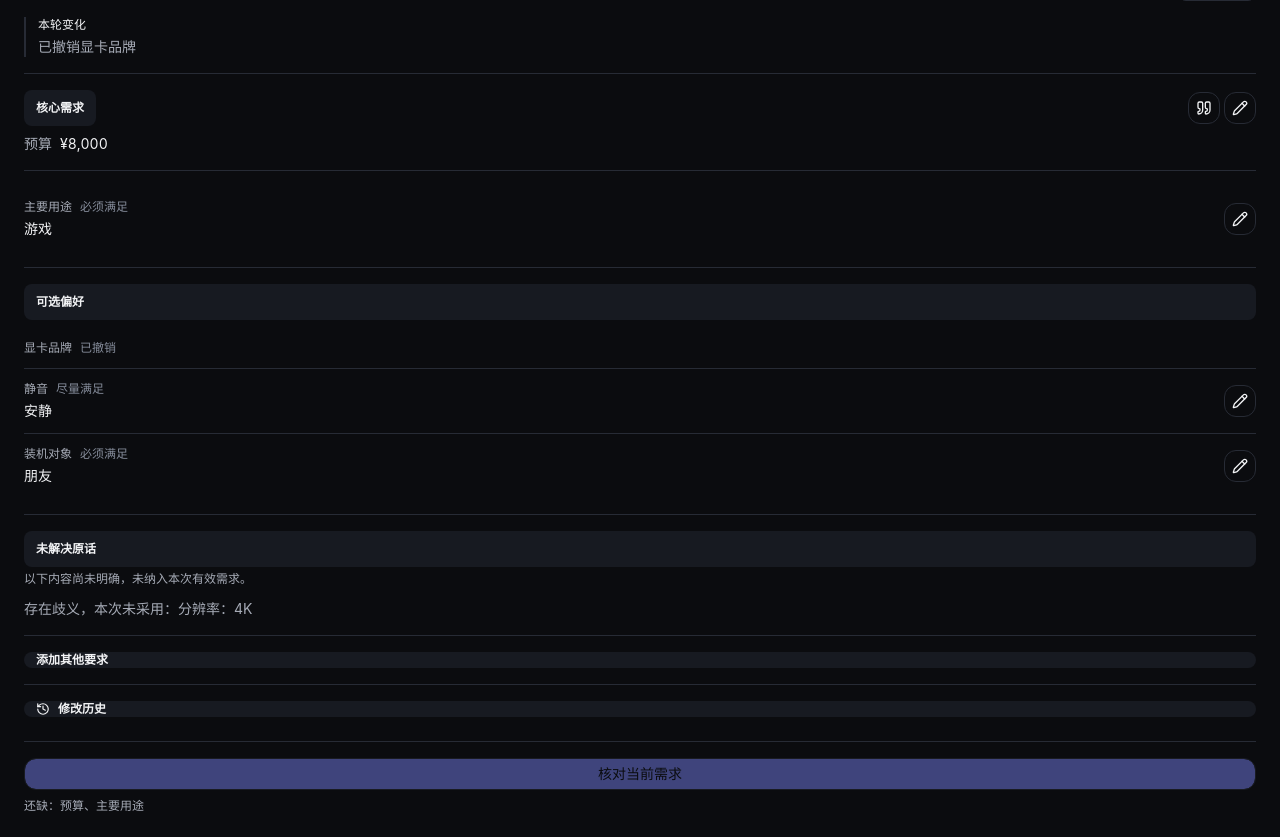
Test case: RequirementStatusPane 编辑与来源 › preserves edits after a failed save and reports the conflict honestly
This screenshot has width=1280, height=837.
Click the button named "修改静音". click: (1240, 401)
box: top-left (1224, 385), bottom-right (1256, 417)
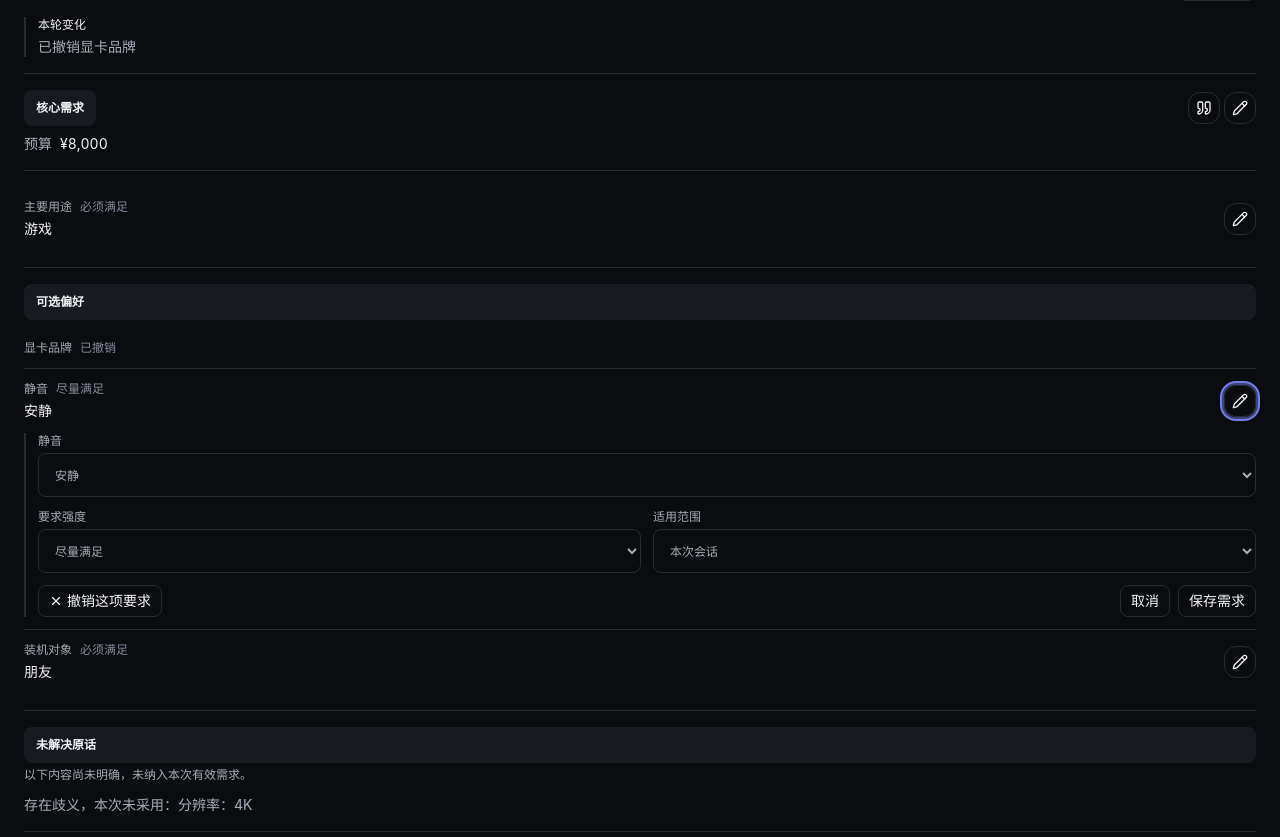
Select "必须满足" in the dropdown named "静音要求强度". click: (340, 551)
box: top-left (38, 529), bottom-right (641, 573)
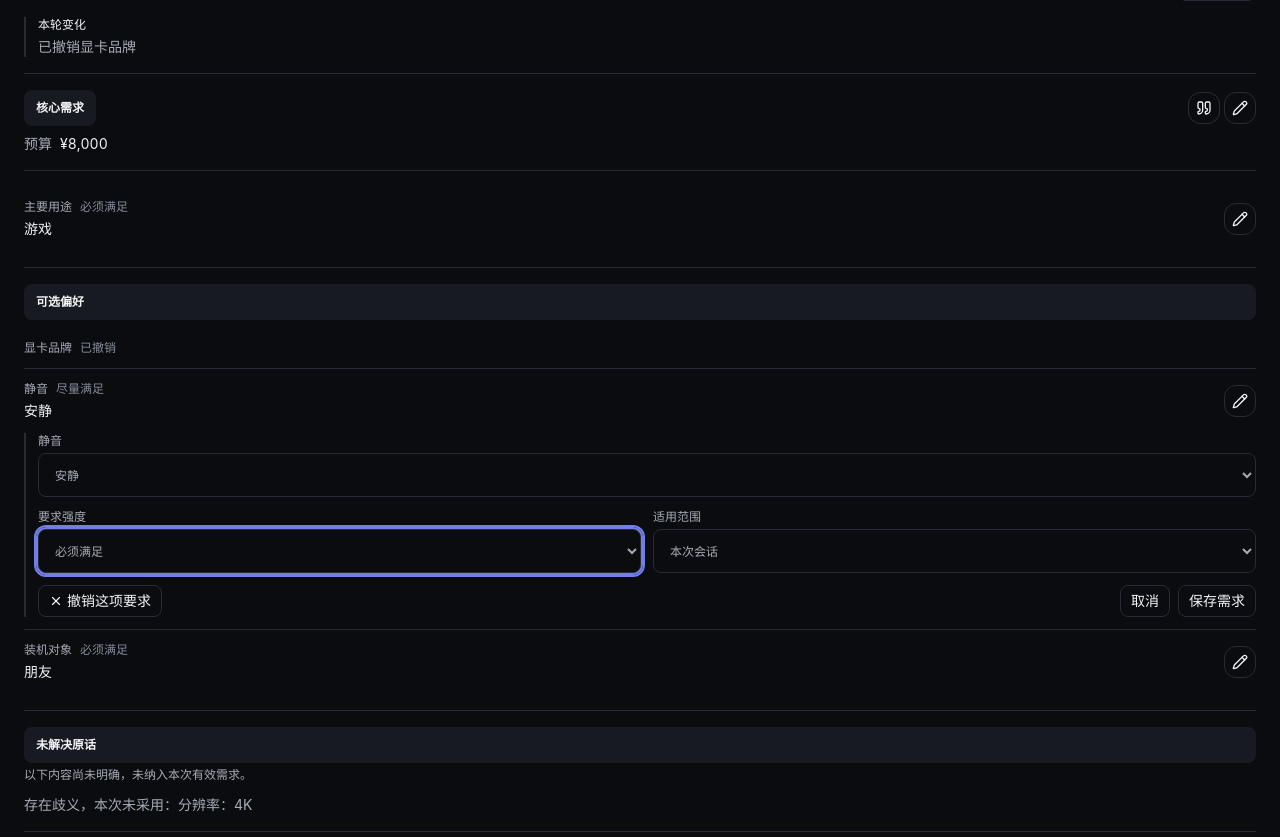
Click the button "保存需求". click: (1217, 601)
box: top-left (1178, 585), bottom-right (1256, 617)
(page scrolled)
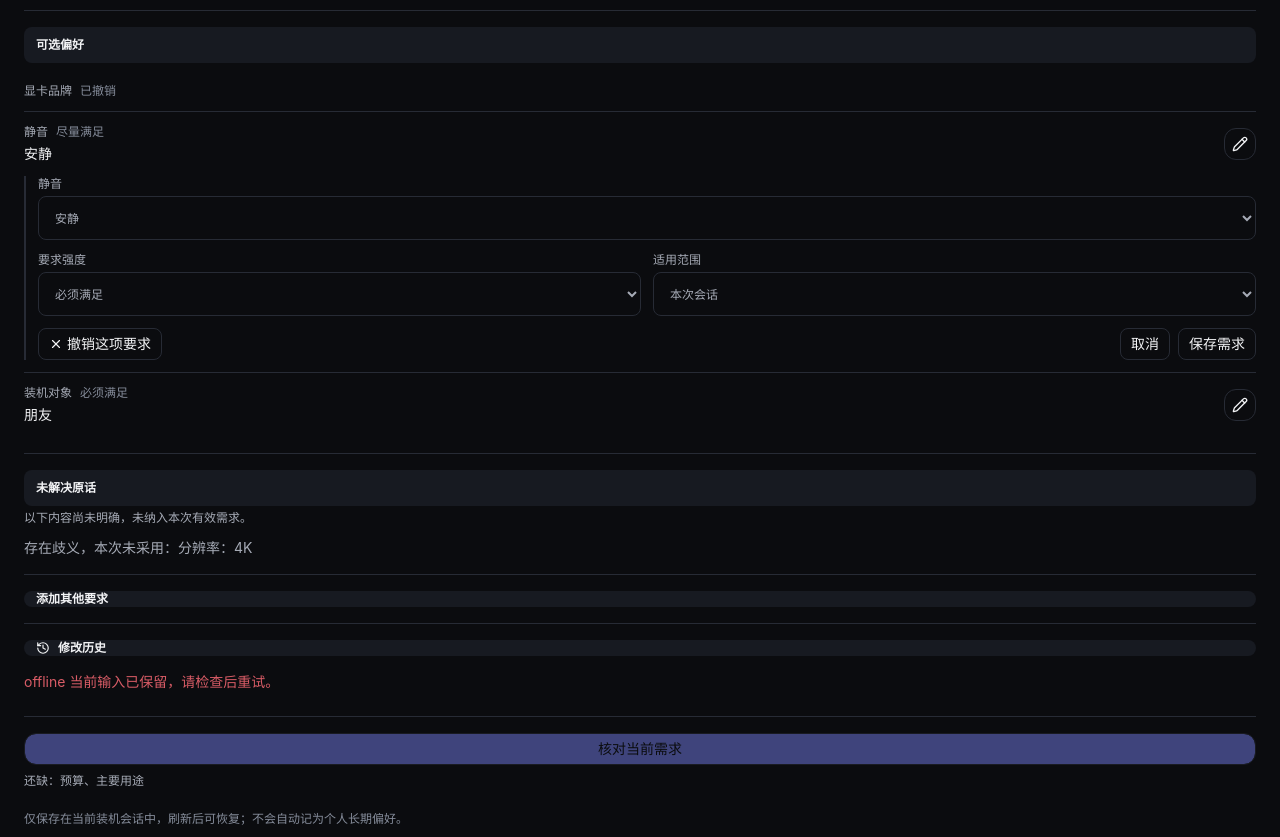
Check: the message shows "当前输入已保留", box top-left (65, 673), bottom-right (279, 690)
